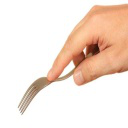fork: (12, 56, 95, 116)
